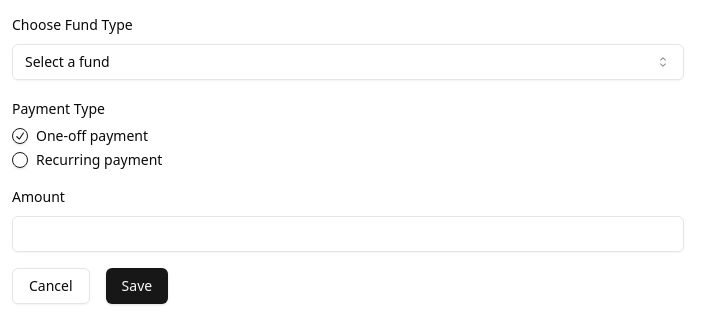
ApplyForm › Fund Selection › should allow selecting only one fund type
What coordinates should you click on to do the following:
click the dropdown named "FundType"
I would click on:
 (67, 62)
Its box is [12, 44, 684, 80].
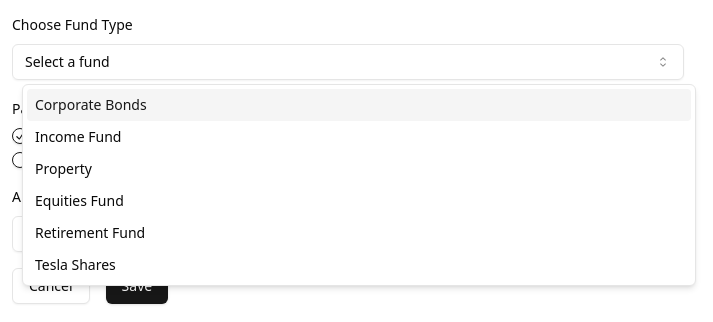
What coordinates should you click on to do the following:
click the option "Equities Fund"
I would click on:
 (79, 200)
Its box is [35, 191, 124, 210].
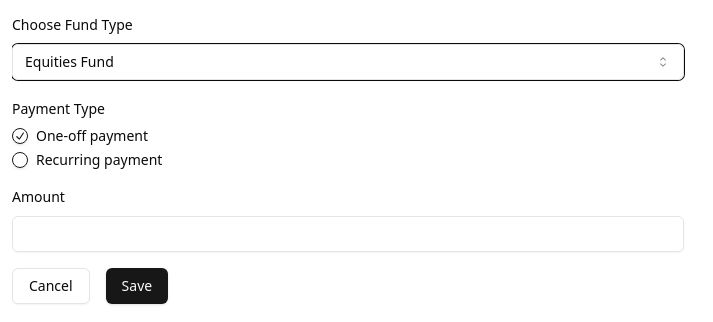
expect the text "Equities Fund" is shown: met, box [25, 52, 114, 72]
